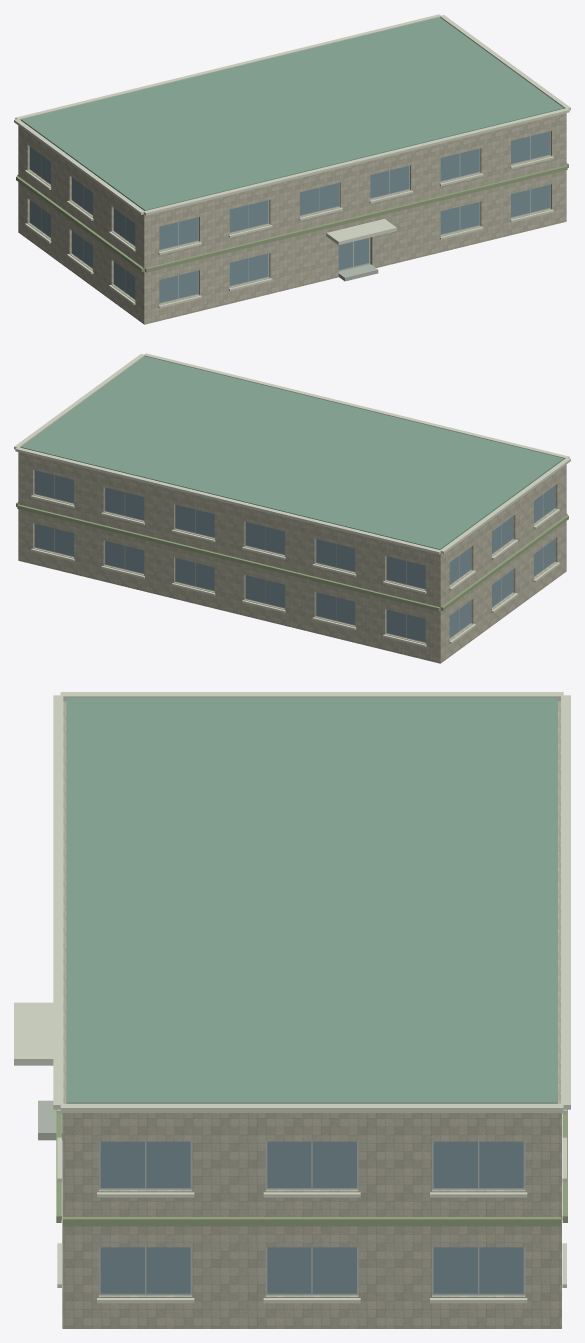
3 views of the same model, one above another, from view 1: azimuth 30°, elevation 25°; view 2: azimuth 150°, elevation 25°; view 3: azimuth 270°, elevation 25° (orthographic). The views are drawn at different scales.
Visible parts, largest first — view 1: dining__roof, dining__wall, dining__glass, dining__trim, dining__green, dining__frame, dining__threshold; view 2: dining__roof, dining__wall, dining__glass, dining__trim, dining__green, dining__frame; view 3: dining__roof, dining__wall, dining__glass, dining__trim, dining__green, dining__frame, dining__threshold.
Part boxes in pixels (x1,y1,x2,y2): dining__roof: (21,17,563,210); dining__wall: (18,113,566,324); dining__glass: (30,131,549,302); dining__trim: (14,14,570,308); dining__green: (16,163,568,272); dining__frame: (29,131,550,303); dining__threshold: (338,264,378,281); dining__roof: (21,356,563,549); dining__wall: (18,452,566,663); dining__glass: (35,470,554,641); dining__trim: (14,353,570,647); dining__green: (16,502,568,611); dining__frame: (34,470,555,642); dining__roof: (66,697,557,1103); dining__wall: (62,701,561,1328); dining__glass: (100,1141,523,1293); dining__trim: (14,692,570,1303); dining__green: (56,1109,567,1225); dining__frame: (99,1141,525,1295); dining__threshold: (38,1100,62,1140).
Size of the model in its own units: 29.54 by 7.46 by 16.72.
Materials: 8 (1 with a texture image).
